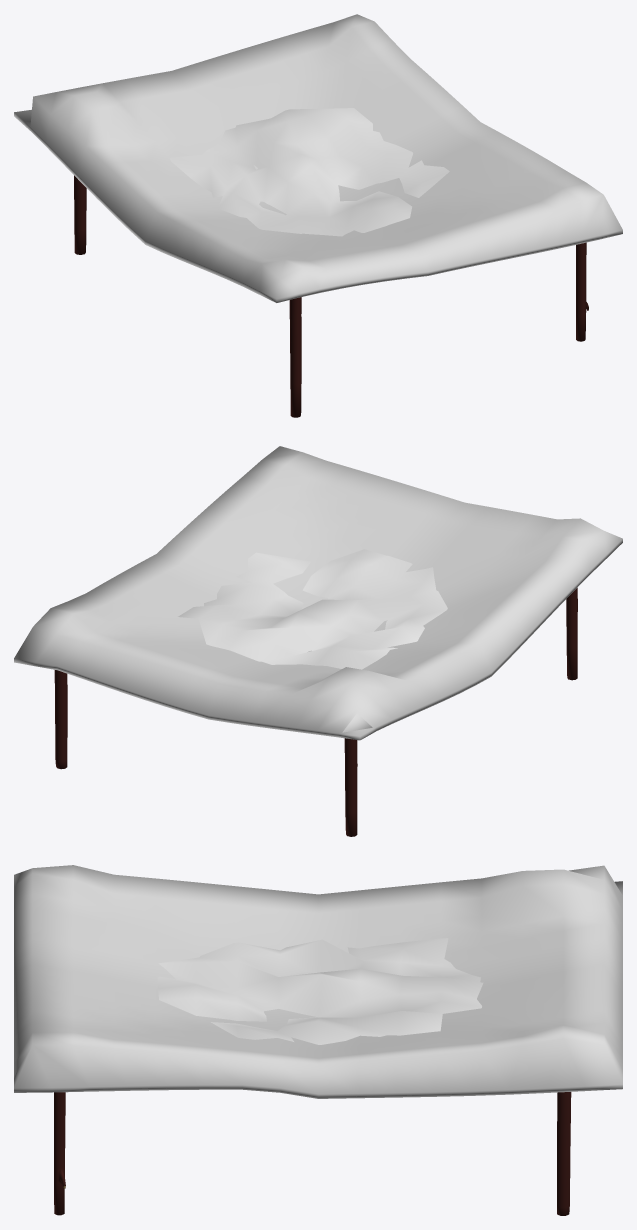
File: SM_DryingTable_001.fbx
3 views of the same model, one above another, from view 1: azimuth 30°, elevation 25°; view 2: azimuth 150°, elevation 25°; view 3: azimuth 270°, elevation 25° (orthographic). The views are drawn at different scales.
Parts seen in each view (by area): view 1: DryingTable; view 2: DryingTable; view 3: DryingTable.
Boxes of the visible parts, x1,y1,x2,y2 form: DryingTable: [14, 14, 622, 417]; DryingTable: [14, 446, 622, 836]; DryingTable: [14, 865, 622, 1215].
Bounding box in the file's own units: 143 × 62.63 × 188.
